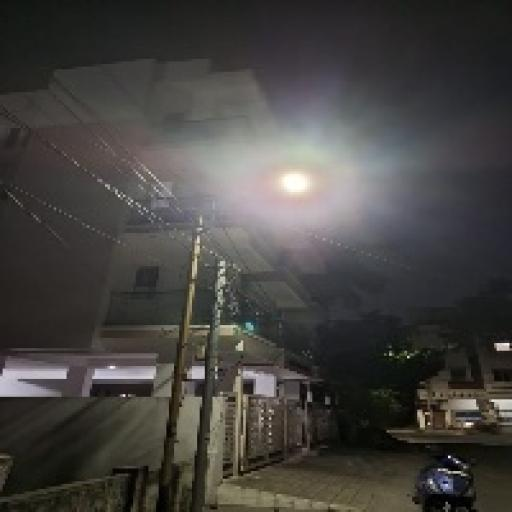Working: (270, 162, 327, 209)
